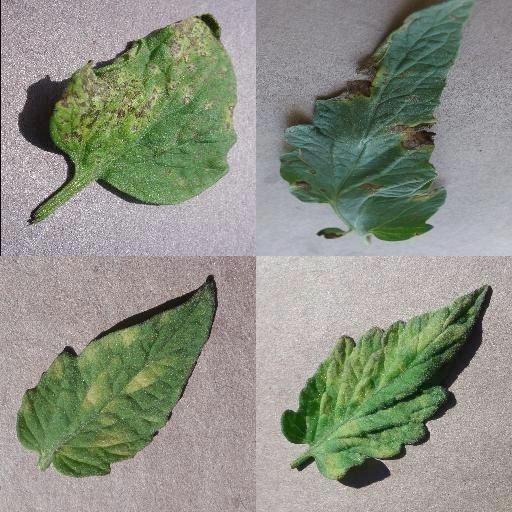Early Blight: (282, 1, 475, 241)
Leaf Mold: (280, 283, 490, 481), (16, 275, 216, 477)
Septoria: (50, 16, 238, 207)
